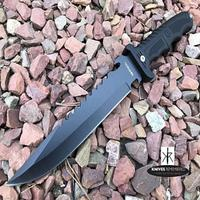knife: (3, 12, 192, 190)
